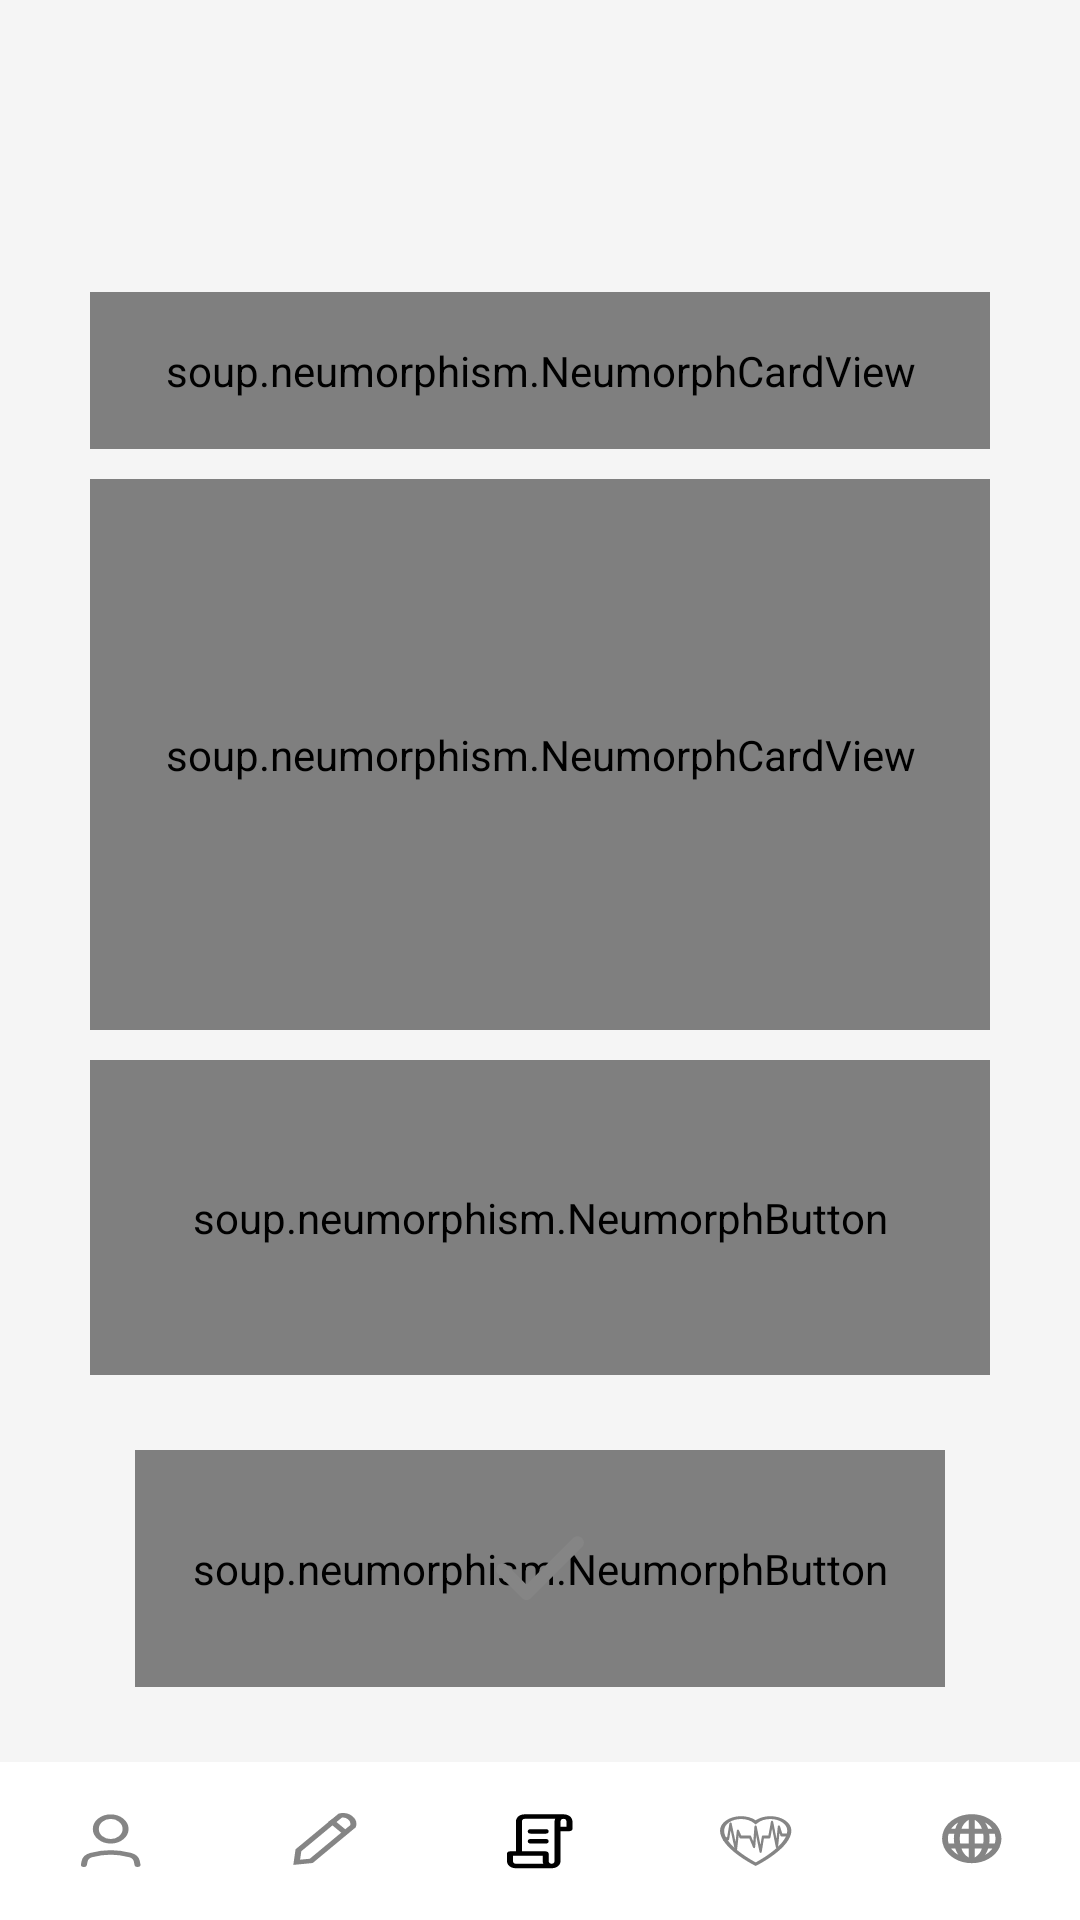

Where to tap for icons on this 1080w x 1920h app screen, as [x,y]:
edit: [325,1839]
heart: [756,1841]
profile: [111,1840]
scroll: [540,1841]
